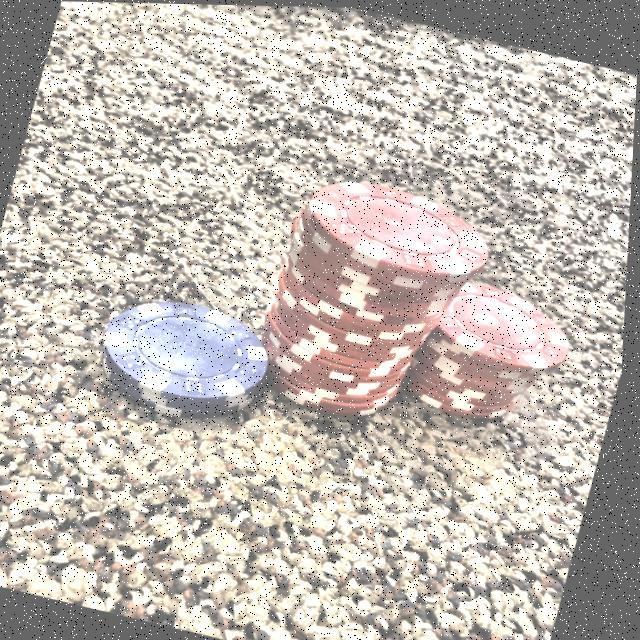Chip: (220, 125, 515, 455), (377, 229, 600, 455), (77, 258, 292, 443)
